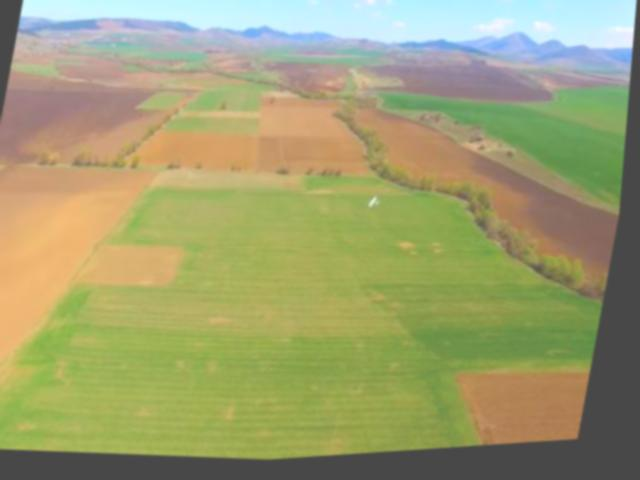uav: (367, 194, 389, 218)
